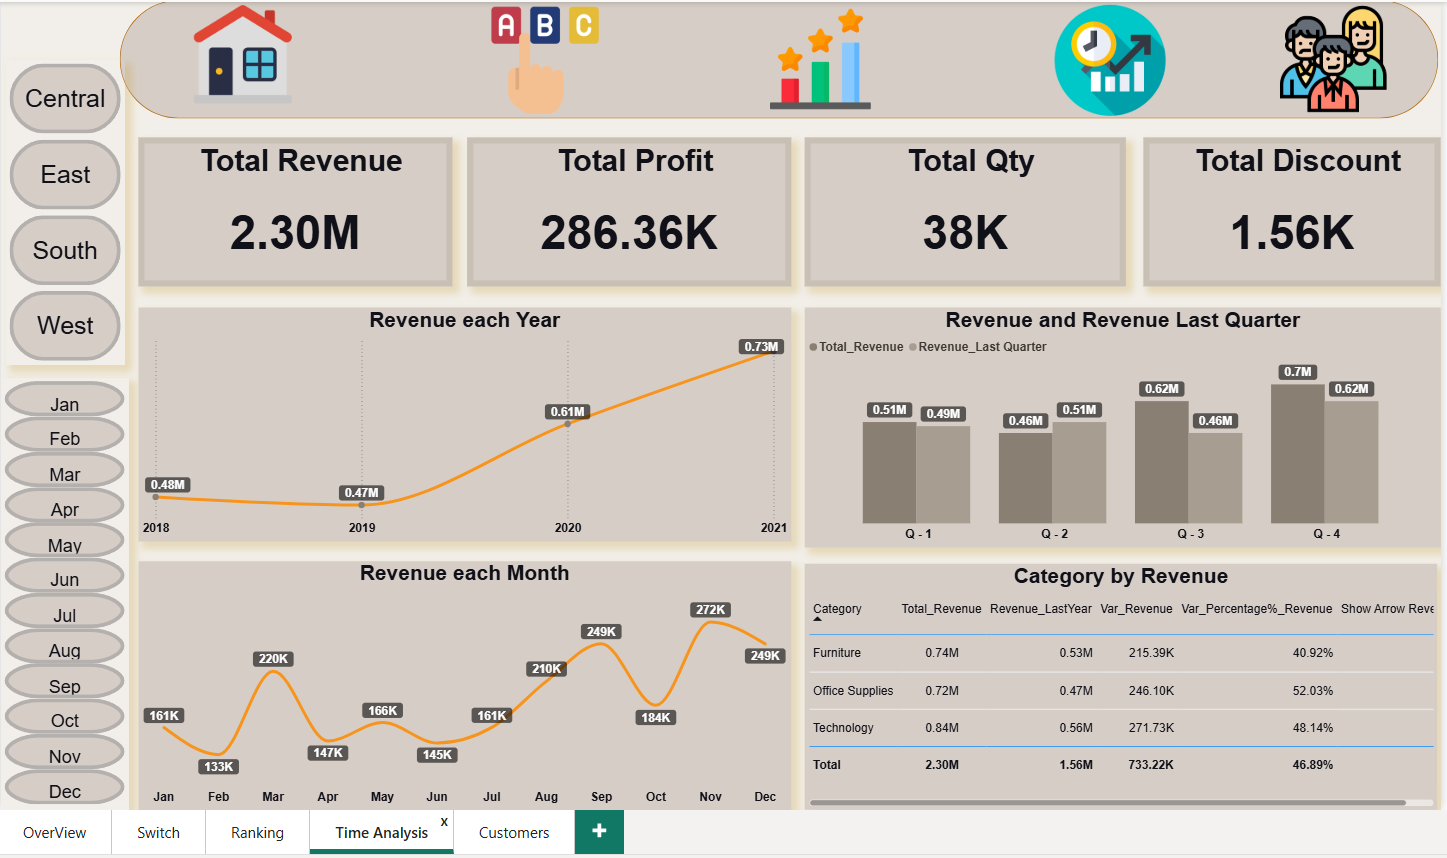

The page's visual inventory and layout, read from the dashboard file:
{"tool":"powerbi","page":{"name":"Time Analysis","canvas":[1920,1080],"ordinal":3},"visuals":[{"type":"advancedSlicerVisual","fields":{"Values":["Calendar_Table.Month_Name"]},"box":[0,504,170,576],"z":0},{"type":"shape","box":[158,0,1758,158],"z":1000},{"type":"card","fields":{"Values":["Dax.Show % Revenue"]},"box":[200,314,124,104],"z":2000},{"type":"card","fields":{"Values":["Dax.Show Arrow Revenue"]},"box":[392,312,170,106],"z":3000},{"type":"card","fields":{"Values":["Dax.Show % Profit"]},"box":[584,312,122,104],"z":4000},{"type":"card","fields":{"Values":["Dax.Show Arrow Profit"]},"box":[774,308,170,108],"z":5000},{"type":"card","fields":{"Values":["Dax.Show % Quantity"]},"box":[944,308,136,102],"z":6000},{"type":"card","fields":{"Values":["Dax.Show Arrow Quantity"]},"box":[1172,308,172,104],"z":7000},{"type":"card","fields":{"Values":["Dax.Show % Discount"]},"box":[1344,310,136,102],"z":8000},{"type":"card","fields":{"Values":["Dax.Show Arrow Discount"]},"box":[1558,306,172,104],"z":9000},{"type":"clusteredColumnChart","title":"Revenue and Revenue Last Quarter ","fields":{"Y":["Dax.Total_Revenue","Calendar_Table.Revenue_Last Quarter"],"Category":["Calendar_Table.Quarter"]},"box":[1071.7,410,848.3,320],"z":10000},{"type":"lineChart","title":"Revenue each Month","fields":{"Category":["Calendar_Table.Month_Name"],"Y":["Dax.Total_Revenue"]},"box":[183.3,748.3,870,331.7],"z":11000},{"type":"lineChart","title":"Revenue each Year","fields":{"Y":["Dax.Total_Revenue"],"Category":["Calendar_Table.Year"]},"box":[183.3,410,870,311.7],"z":12000},{"type":"tableEx","title":"Category by Revenue","fields":{"Values":["Dim_Product.Category","Dax.Total_Revenue","Dax.Revenue_LastYear","Dax.Var_Revenue","Dax.Var_Percentage%_Revenue","Dax.Show Arrow Revenue"]},"box":[1071.7,751.7,843.3,328.3],"z":13000},{"type":"image","box":[230.7,0,184.2,144.8],"z":14000},{"type":"image","box":[646,2,158,158],"z":15000},{"type":"image","box":[1698,0,156,158],"z":16000},{"type":"image","box":[1014,6,158,144],"z":17000},{"type":"image","box":[1400,2,158,158],"z":18000},{"type":"advancedSlicerVisual","fields":{"Values":["Dim_Customer.Region"]},"box":[6,80,158,406],"z":19000},{"type":"card","title":"Total Profit","fields":{"Values":["Dax.Total_Profit"]},"box":[622,184,432,198],"z":20000},{"type":"card","title":"Total Qty","fields":{"Values":["Dax.Total_Quantity"]},"box":[1072,184,428,198],"z":21000},{"type":"card","title":"Total Discount","fields":{"Values":["Dax.Total_Discount"]},"box":[1524,184,396,198],"z":22000},{"type":"card","title":"Total Revenue","fields":{"Values":["Dax.Total_Revenue"]},"box":[184,184,418,198],"z":23000}]}

Visuals, with their boxes on the page's 1920x1080 design canvas (x1, y1, x2, y2). These are canvas units, not pixel positions in the 1447x858 screenshot, which may show the page scaled, cropped or inside an application window:
advancedSlicerVisual - Calendar_Table.Month_Name: pyautogui.locateOnScreen(0, 504, 170, 1080)
shape: pyautogui.locateOnScreen(158, 0, 1916, 158)
card - Dax.Show % Revenue: pyautogui.locateOnScreen(200, 314, 324, 418)
card - Dax.Show Arrow Revenue: pyautogui.locateOnScreen(392, 312, 562, 418)
card - Dax.Show % Profit: pyautogui.locateOnScreen(584, 312, 706, 416)
card - Dax.Show Arrow Profit: pyautogui.locateOnScreen(774, 308, 944, 416)
card - Dax.Show % Quantity: pyautogui.locateOnScreen(944, 308, 1080, 410)
card - Dax.Show Arrow Quantity: pyautogui.locateOnScreen(1172, 308, 1344, 412)
card - Dax.Show % Discount: pyautogui.locateOnScreen(1344, 310, 1480, 412)
card - Dax.Show Arrow Discount: pyautogui.locateOnScreen(1558, 306, 1730, 410)
"Revenue and Revenue Last Quarter " clusteredColumnChart: pyautogui.locateOnScreen(1072, 410, 1920, 730)
"Revenue each Month" lineChart: pyautogui.locateOnScreen(183, 748, 1053, 1080)
"Revenue each Year" lineChart: pyautogui.locateOnScreen(183, 410, 1053, 722)
"Category by Revenue" tableEx: pyautogui.locateOnScreen(1072, 752, 1915, 1080)
image: pyautogui.locateOnScreen(231, 0, 415, 145)
image: pyautogui.locateOnScreen(646, 2, 804, 160)
image: pyautogui.locateOnScreen(1698, 0, 1854, 158)
image: pyautogui.locateOnScreen(1014, 6, 1172, 150)
image: pyautogui.locateOnScreen(1400, 2, 1558, 160)
advancedSlicerVisual - Dim_Customer.Region: pyautogui.locateOnScreen(6, 80, 164, 486)
"Total Profit" card: pyautogui.locateOnScreen(622, 184, 1054, 382)
"Total Qty" card: pyautogui.locateOnScreen(1072, 184, 1500, 382)
"Total Discount" card: pyautogui.locateOnScreen(1524, 184, 1920, 382)
"Total Revenue" card: pyautogui.locateOnScreen(184, 184, 602, 382)
